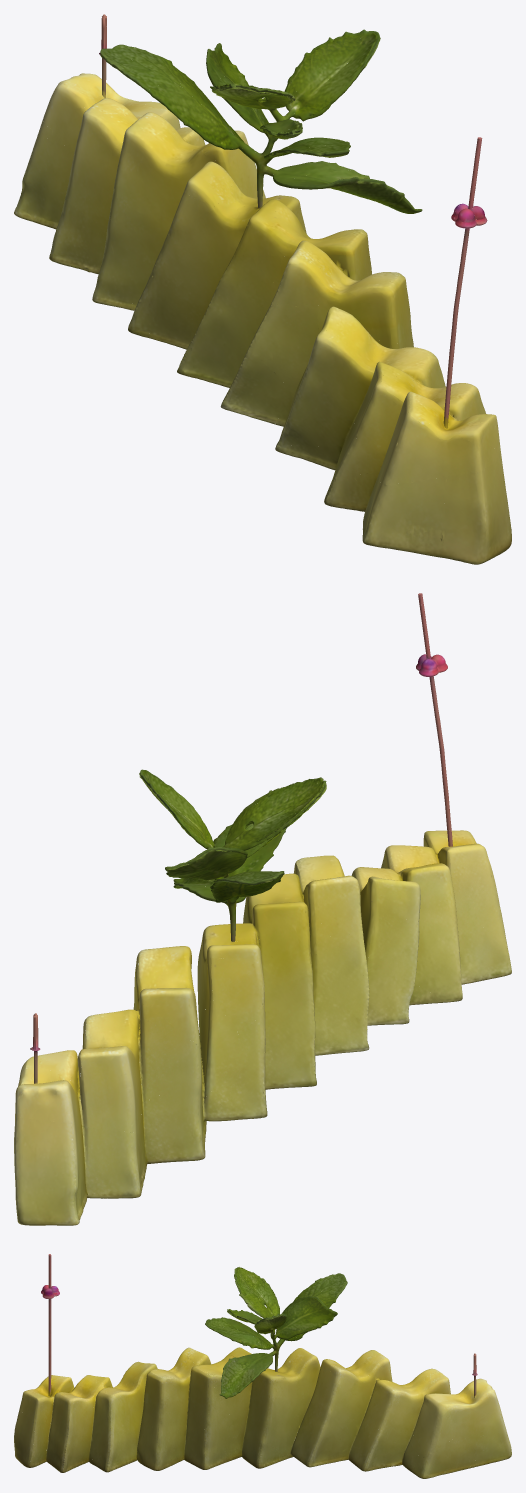
File: qovun2.glb
The picture shows the model from 3 angles, top to bottom: view 1: azimuth 30°, elevation 25°; view 2: azimuth 150°, elevation 25°; view 3: azimuth 270°, elevation 25°; orthographic projection. The views are drawn at different scales.
Parts seen in each view (by area): view 1: qovun; view 2: qovun; view 3: qovun.
Part boxes in pixels (x1,y1,x2,y2): qovun: [14, 14, 511, 564]; qovun: [14, 593, 511, 1225]; qovun: [14, 1254, 511, 1478].
Size of the model in its own units: 0.2585 by 0.4582 by 0.9799.
Materials: 1 (1 with a texture image).
